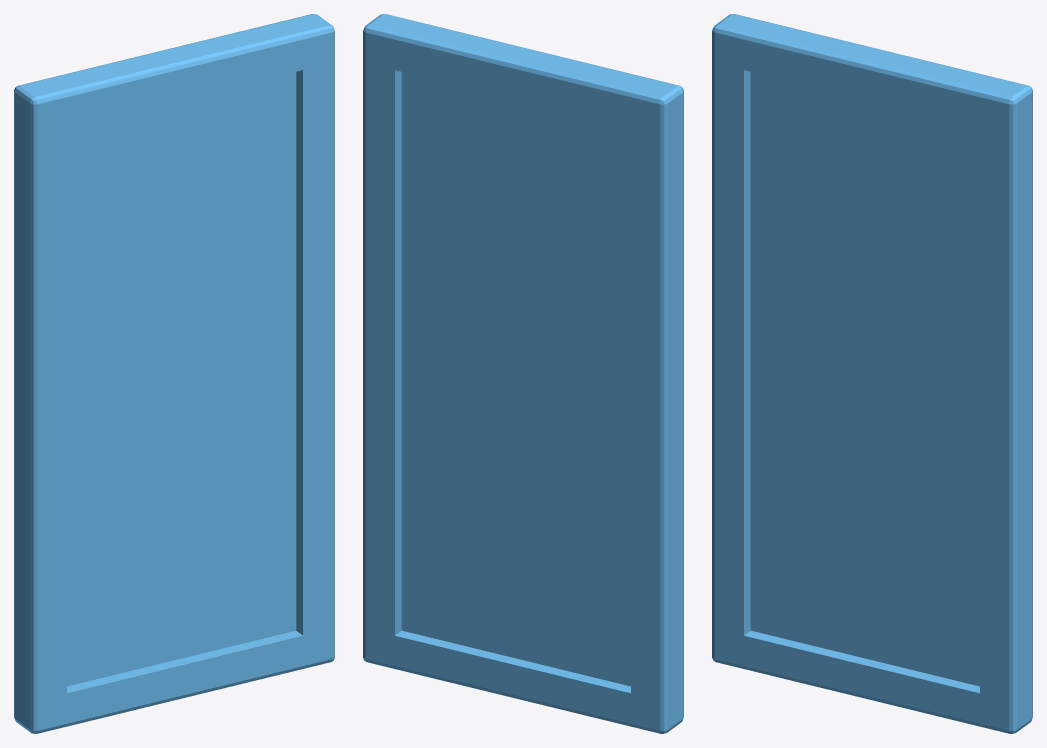
File: Mod_Door_02 1.fbx
The picture shows the model from 3 angles, left to right: view 1: azimuth 30°, elevation 25°; view 2: azimuth 150°, elevation 25°; view 3: azimuth 330°, elevation 25°; orthographic projection.
Visible parts, largest first — view 1: Mod_Door_02; view 2: Mod_Door_02; view 3: Mod_Door_02.
Part boxes in pixels (bbox=[...]): Mod_Door_02: bbox=[14, 14, 334, 733]; Mod_Door_02: bbox=[363, 14, 683, 733]; Mod_Door_02: bbox=[712, 14, 1032, 733].
Size of the model in its own units: 100 by 200 by 12.
